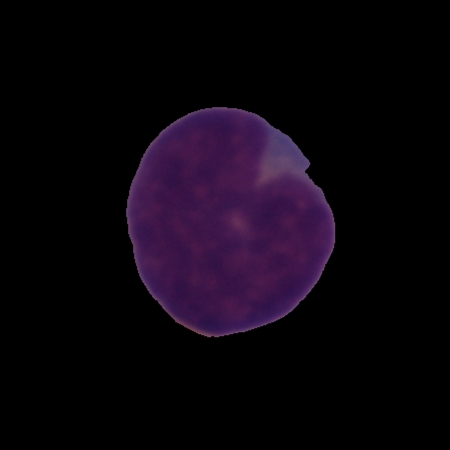ALL: (123, 103, 339, 340)
